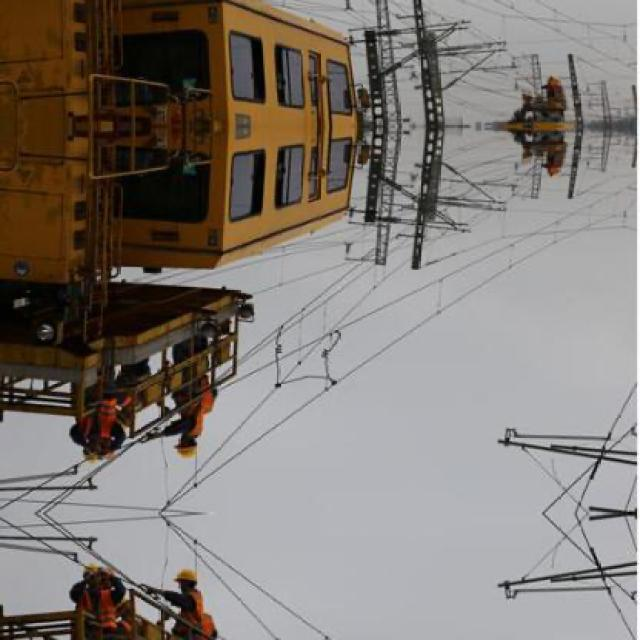con casco: (156, 430, 226, 474)
